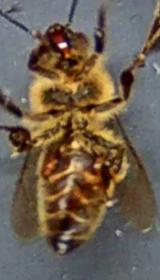varroa_mite: (33, 146, 61, 176)
